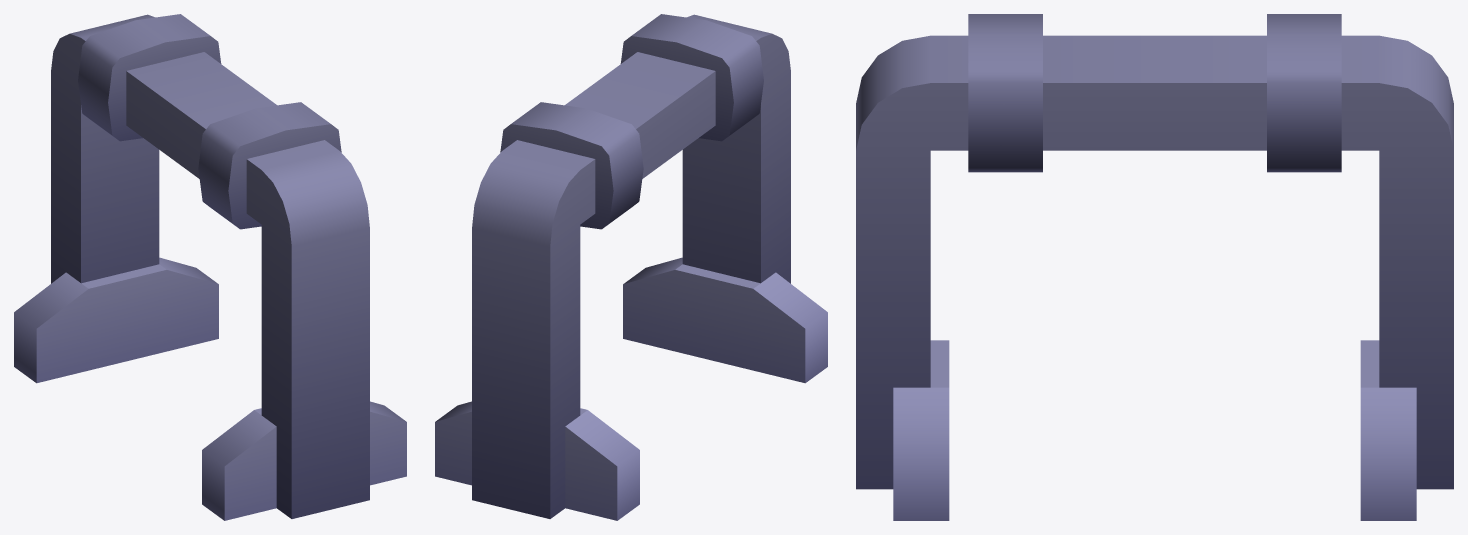
The model's file is scanner-high.fbx.
The picture shows the model from 3 angles, left to right: view 1: azimuth 30°, elevation 25°; view 2: azimuth 150°, elevation 25°; view 3: azimuth 270°, elevation 25°; orthographic projection. The views are drawn at different scales.
Visible parts, largest first — view 1: scanner-high; view 2: scanner-high; view 3: scanner-high.
Boxes of the visible parts, x1,y1,x2,y2 form: scanner-high: (14,14,406,520); scanner-high: (435,14,827,520); scanner-high: (856,14,1453,520).
Size of the model in its own units: 70 by 127 by 160.
Materials: 1 (1 with a texture image).
